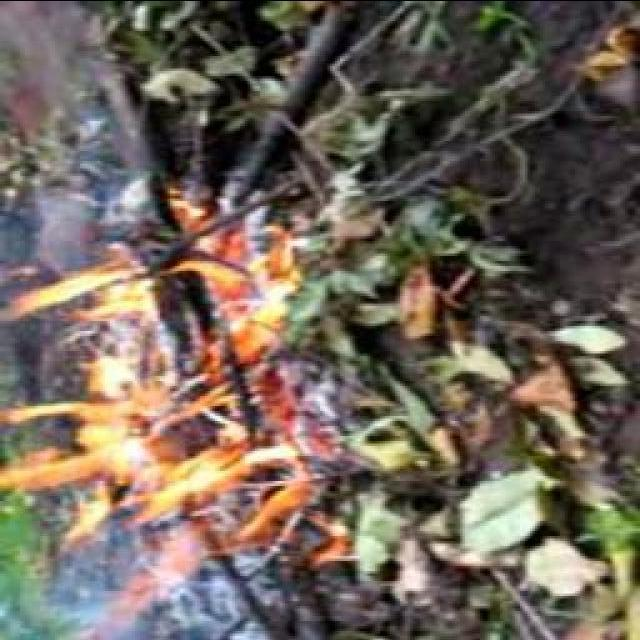Fire: (6, 368, 316, 549), (18, 238, 274, 408)
